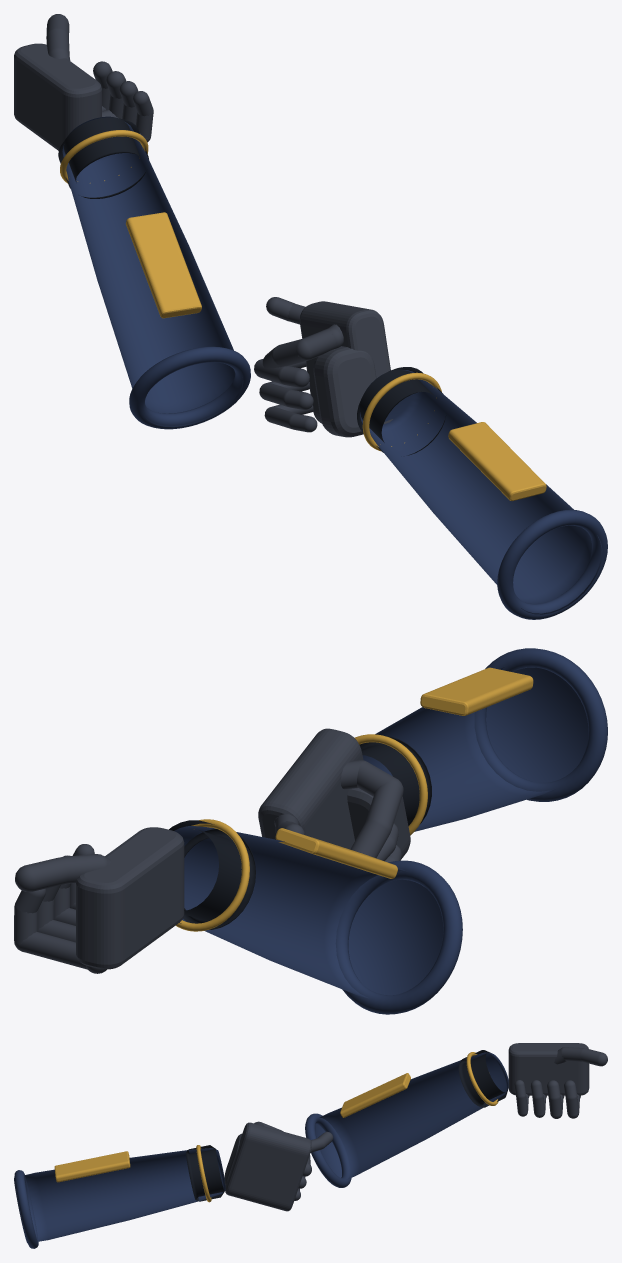
File: hands_firstperson.glb
3 renders of one model, top to bottom at view 1: azimuth 30°, elevation 25°; view 2: azimuth 150°, elevation 25°; view 3: azimuth 270°, elevation 25°, orthographic. The views are drawn at different scales.
Parts seen in each view (by area): view 1: hand_l_forearm, hand_r_forearm, hand_l_palm, hand_r_sleeve_roll, hand_l_forearm_plate, hand_l_sleeve_roll, hand_r_heel, hand_r_palm, hand_r_forearm_plate, hand_l_cuff, hand_r_cuff, hand_r_thumb (+6 smaller); view 2: hand_l_forearm, hand_r_forearm, hand_l_palm, hand_r_palm, hand_l_sleeve_roll, hand_r_sleeve_roll, hand_l_cuff, hand_r_thumb, hand_r_forearm_plate, hand_l_finger3, hand_l_thumb, hand_r_cuff (+6 smaller); view 3: hand_r_forearm, hand_l_forearm, hand_r_palm, hand_l_palm, hand_l_sleeve_roll, hand_r_cuff, hand_r_forearm_plate, hand_l_cuff, hand_l_forearm_plate, hand_r_sleeve_roll, hand_l_thumb, hand_l_finger2 (+5 smaller).
Part boxes in pixels (x1,y1,x2,y2): hand_l_forearm: (62,116,243,427); hand_r_forearm: (360,370,602,614); hand_l_palm: (14,43,101,150); hand_r_sleeve_roll: (497,509,607,619); hand_l_forearm_plate: (125,212,201,318); hand_l_sleeve_roll: (129,346,250,429); hand_r_heel: (313,346,376,437); hand_r_palm: (299,301,392,424); hand_r_forearm_plate: (448,422,546,501); hand_l_cuff: (58,117,148,198); hand_r_cuff: (357,367,446,455); hand_r_thumb: (262,324,343,368); hand_l_forearm: (174,826,443,998); hand_r_forearm: (362,664,588,831); hand_l_palm: (76,827,184,969); hand_r_palm: (258,728,363,849); hand_l_sleeve_roll: (335,860,462,1014); hand_r_sleeve_roll: (474,648,607,801); hand_l_cuff: (169,820,255,929); hand_r_thumb: (340,760,403,858); hand_r_forearm_plate: (420,667,533,715); hand_l_finger3: (14,888,87,969); hand_l_thumb: (15,854,111,891); hand_r_cuff: (359,735,431,825); hand_r_forearm: (14,1148,225,1242); hand_l_forearm: (315,1052,508,1179); hand_r_palm: (225,1122,311,1211); hand_l_palm: (508,1043,589,1095); hand_l_sleeve_roll: (305,1113,351,1187); hand_r_cuff: (186,1145,224,1201); hand_r_forearm_plate: (54,1151,130,1182); hand_l_cuff: (458,1050,508,1107); hand_l_forearm_plate: (340,1073,410,1117); hand_r_sleeve_roll: (14,1170,38,1248); hand_l_thumb: (554,1047,607,1066); hand_l_finger2: (547,1080,563,1118).
Bounding box in the file's own units: 0.2032 × 0.2363 × 0.708.
